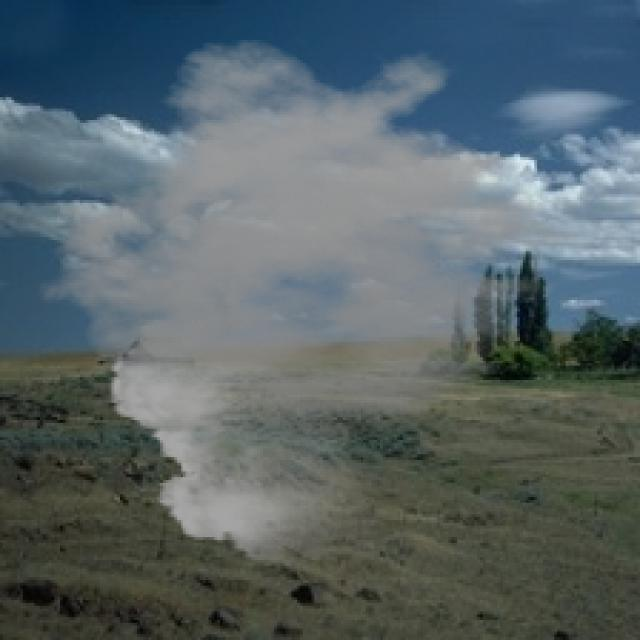smoke: (37, 37, 606, 569)
